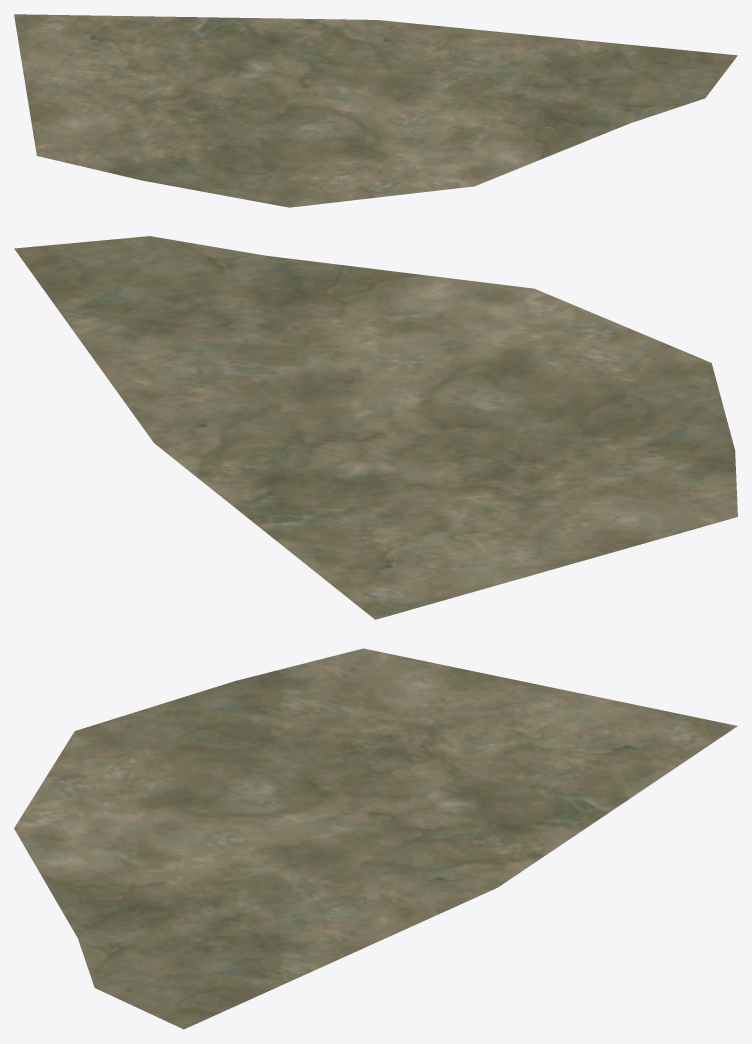
The model's file is OVERHILL_A_01_GROUND_26.fbx.
3 views of the same model, one above another, from view 1: azimuth 30°, elevation 25°; view 2: azimuth 150°, elevation 25°; view 3: azimuth 270°, elevation 25° (orthographic). The views are drawn at different scales.
Parts seen in each view (by area): view 1: OVERHILL_A_01_GROUND_26; view 2: OVERHILL_A_01_GROUND_26; view 3: OVERHILL_A_01_GROUND_26.
Part boxes in pixels (box(x1,y1,x2,y2)): OVERHILL_A_01_GROUND_26: box(14, 14, 737, 207); OVERHILL_A_01_GROUND_26: box(14, 236, 737, 619); OVERHILL_A_01_GROUND_26: box(14, 648, 737, 1029).
Bounding box in the file's own units: 28918 × 0.00378 × 23218.
Materials: 1 (1 with a texture image).
